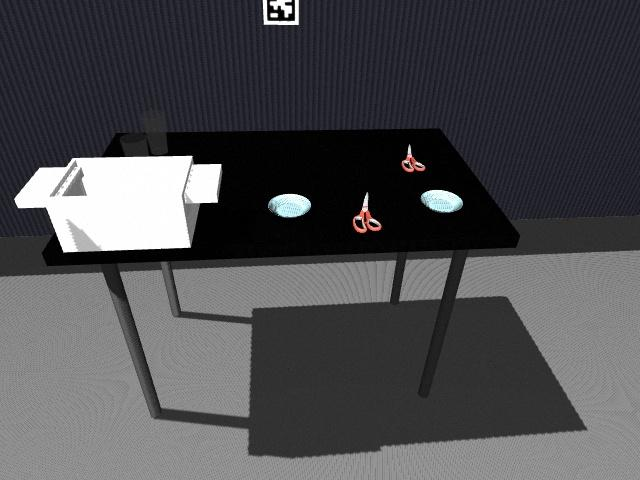cup: (141, 110, 169, 155), (120, 134, 149, 158)
plate: (266, 193, 312, 219), (419, 189, 465, 214)
scissors: (351, 190, 383, 234), (401, 143, 426, 174)
